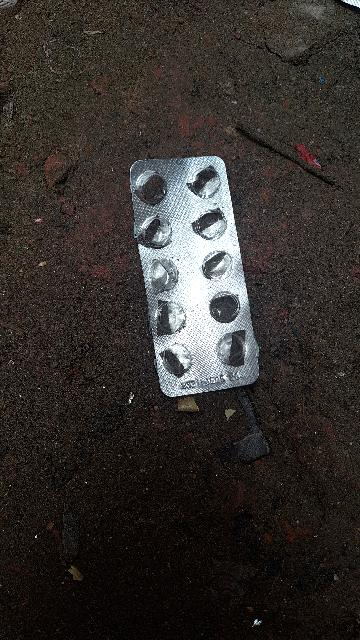medicine: (122, 130, 277, 401)
